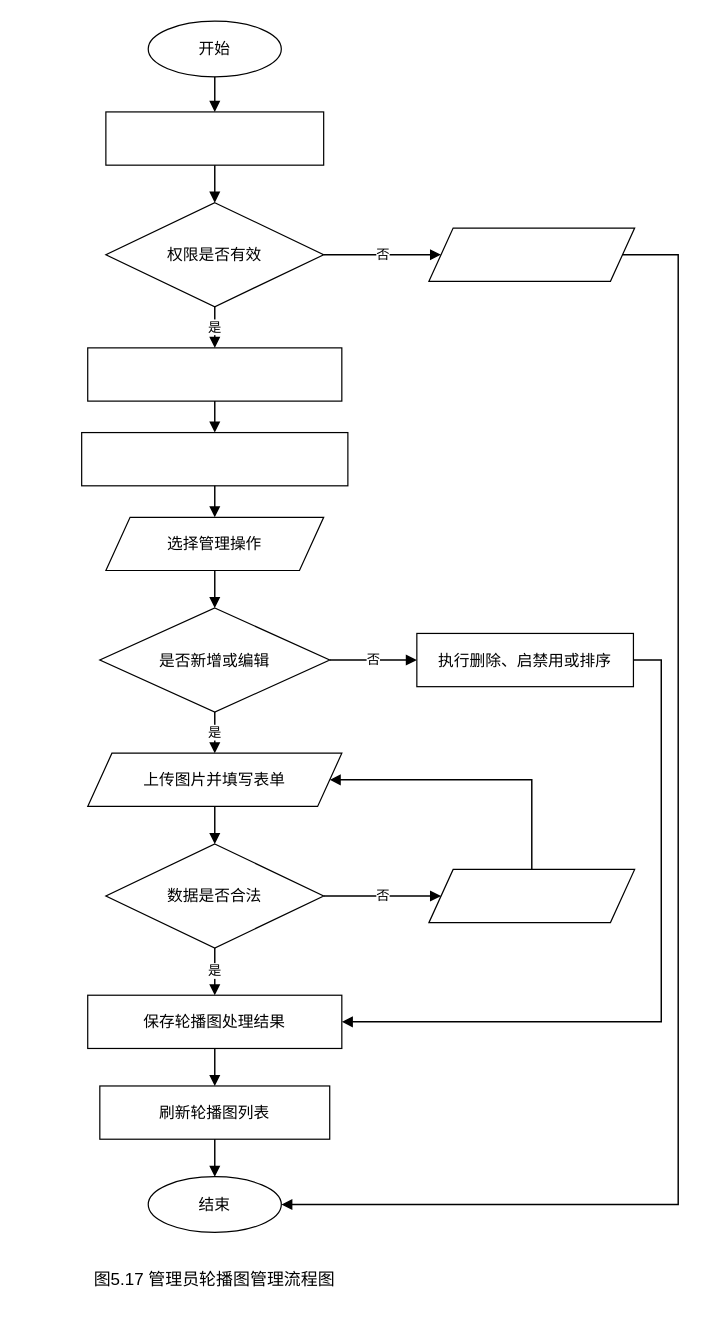
This 709x1319 diagram has some shape labels left out. Each missing label, with the box of its shape:
提示无权访问: (428, 227, 635, 281)
查询并显示轮播图列表: (80, 431, 348, 486)
管理员登录后台: (105, 111, 324, 165)
返回错误提示: (428, 868, 635, 923)
进入轮播图管理页面: (87, 347, 342, 401)
